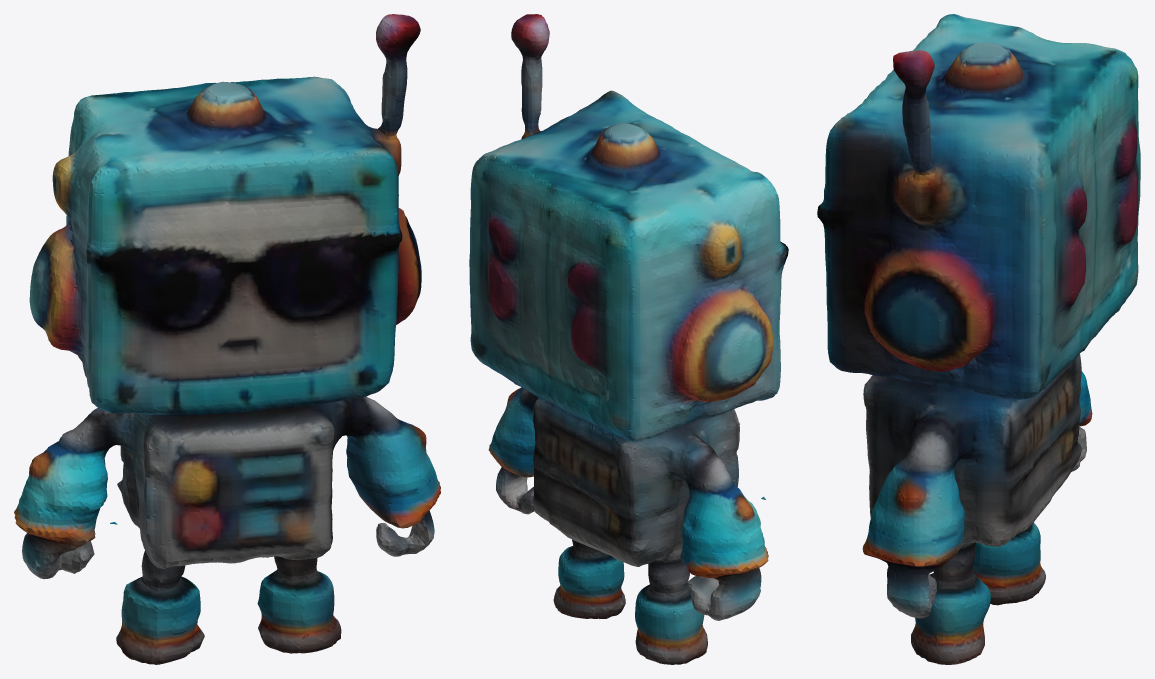
The model's file is ours-conv.glb.
3 renders of one model, left to right at view 1: azimuth 30°, elevation 25°; view 2: azimuth 150°, elevation 25°; view 3: azimuth 270°, elevation 25°, orthographic. The views are drawn at different scales.
Parts seen in each view (by area): view 1: ours.obj; view 2: ours.obj; view 3: ours.obj.
Boxes of the visible parts, x1=… form: ours.obj: x1=14, y1=14, x2=440, y2=664; ours.obj: x1=469, y1=14, x2=788, y2=664; ours.obj: x1=817, y1=14, x2=1140, y2=664.
Size of the model in its own units: 1.21 by 1.99 by 0.9165.
